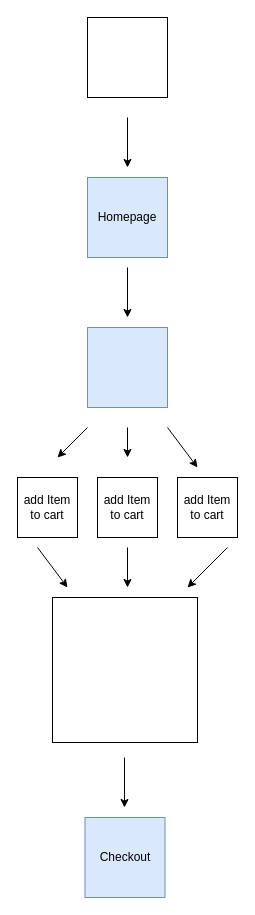
This 255x915 diagram has some shape labels left out. The shapes that lost their labels are listed below. From the top down, each one's centre as x and y in pixels, then its label:
At (x=127, y=57): "browsing".
At (x=127, y=367): "Select Restaurant".
At (x=125, y=669): "Reviews cart".
